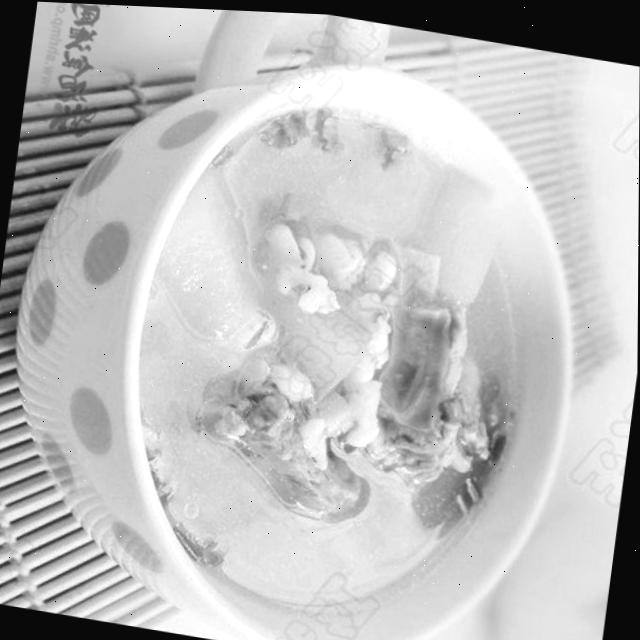汤锅炖物: (59, 67, 630, 640)
